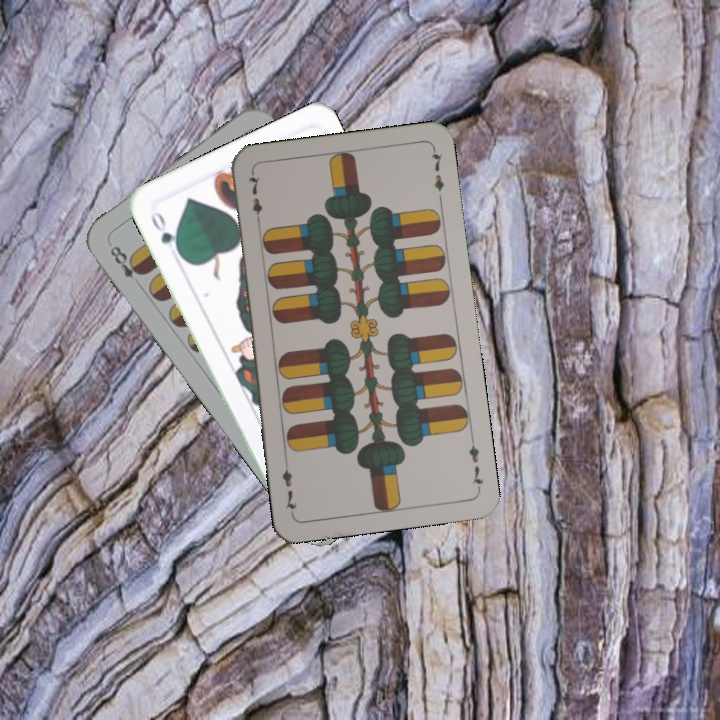E7: (465, 434, 486, 493), (245, 169, 265, 229)
E8: (105, 242, 147, 282)
GO: (147, 207, 184, 259)
